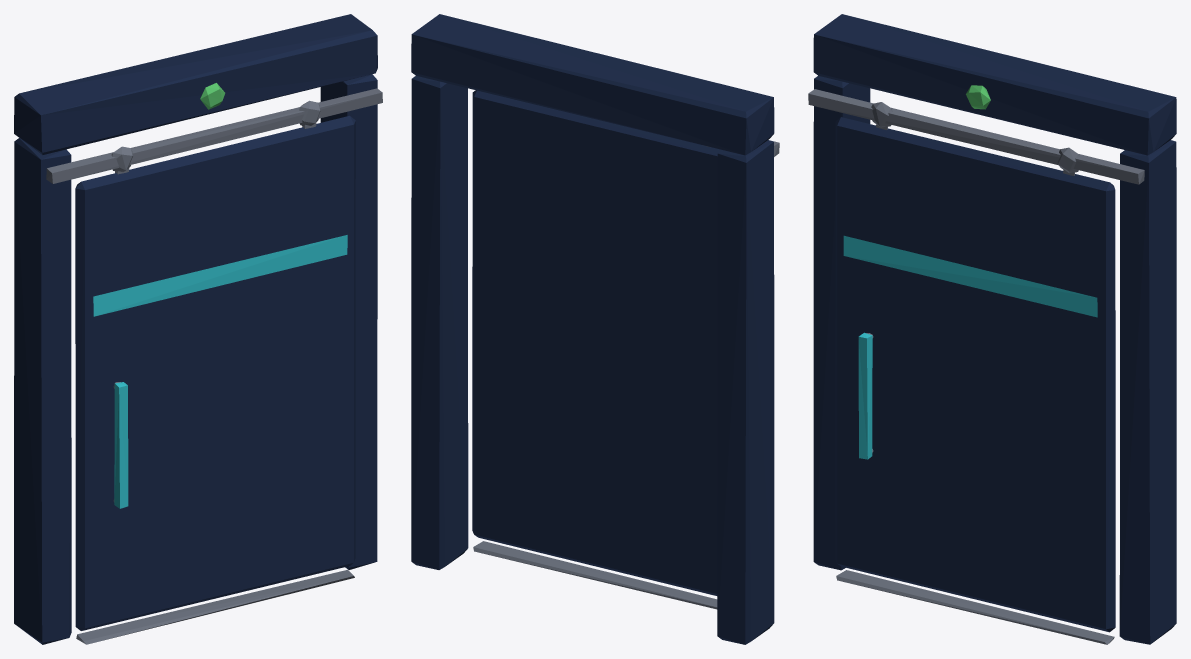
The model's file is sliding_door_lod1.obj.
3 renders of one model, left to right at view 1: azimuth 30°, elevation 25°; view 2: azimuth 150°, elevation 25°; view 3: azimuth 330°, elevation 25°, orthographic.
Parts seen in each view (by area): view 1: sliding_door_lod1; view 2: sliding_door_lod1; view 3: sliding_door_lod1.
Boxes of the visible parts, left/top/right/bottom form: sliding_door_lod1: left=14, top=14, right=382, bottom=644; sliding_door_lod1: left=411, top=14, right=779, bottom=644; sliding_door_lod1: left=808, top=14, right=1176, bottom=644.
Size of the model in its own units: 2 by 3 by 0.4486.
